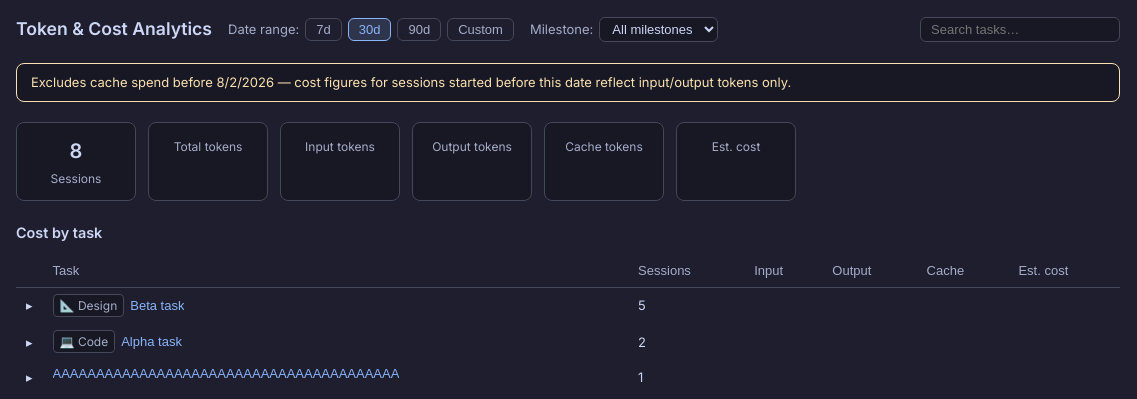
Scenario: AnalyticsPanel › task name/type and drill-in interactions › filters rows by search query, case-insensitively
Expected: the button "Alpha task" is shown, [121,334,182,349]
Expected: the button "Beta task" is shown, [130,298,184,313]
Type "alpha" into the field with placeholder "Search tasks…" at (1020,29), box [920,17,1120,42]
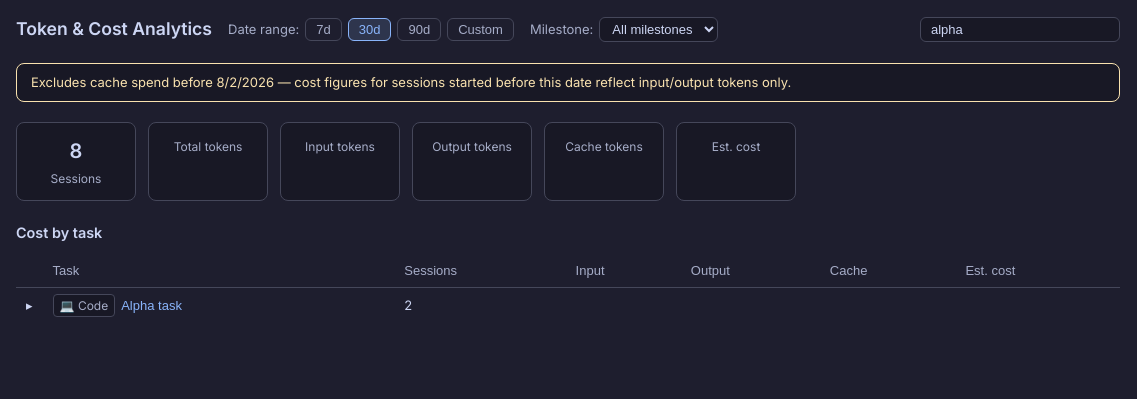
Expected: the button "Alpha task" is shown, [121,298,182,313]
Expected: the button "Beta task" is gone
